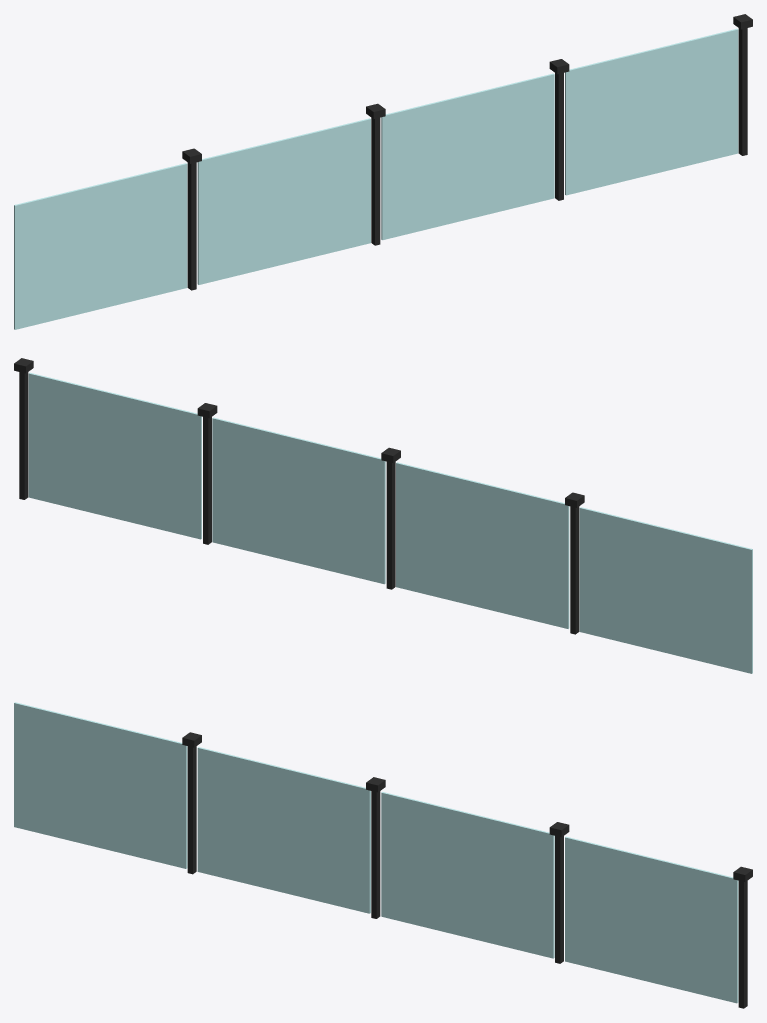
Rendered from Balcony.017.fbx.
The picture shows the model from 3 angles, top to bottom: view 1: azimuth 30°, elevation 25°; view 2: azimuth 150°, elevation 25°; view 3: azimuth 330°, elevation 25°; orthographic projection.
Parts seen in each view (by area): view 1: Balcony.017; view 2: Balcony.017; view 3: Balcony.017.
Part boxes in pixels (left/top/right/bottom): Balcony.017: left=14, top=14, right=752, bottom=329; Balcony.017: left=14, top=358, right=752, bottom=673; Balcony.017: left=14, top=702, right=752, bottom=1008.
Bounding box in the file's own units: 2472 × 437 × 44.44.
